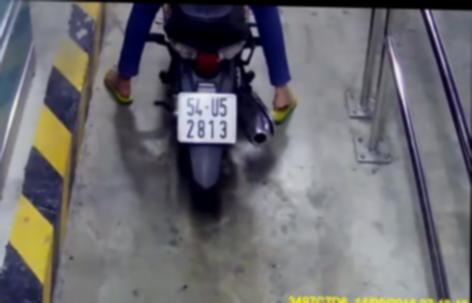License_Plate: (168, 88, 243, 150)
